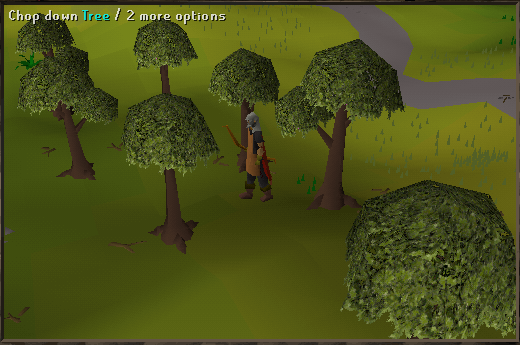Tree: (292, 46, 414, 202), (115, 97, 214, 255), (21, 58, 108, 184), (132, 22, 191, 89)
